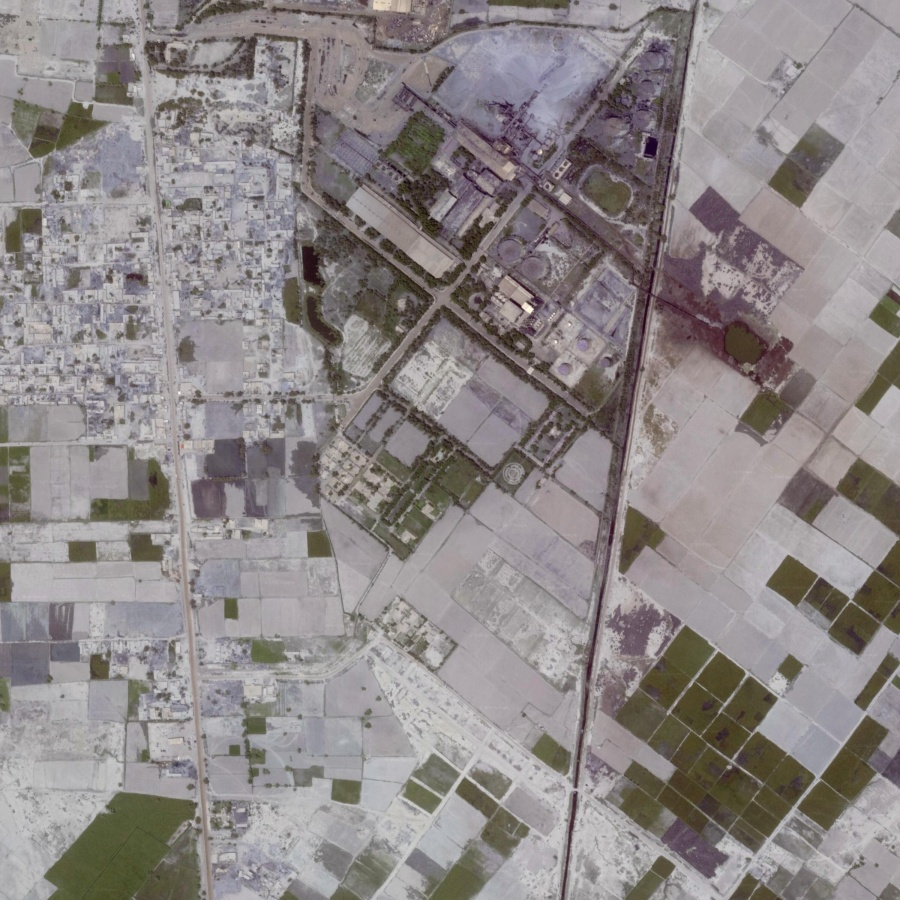PowerPlant: (444, 166, 634, 384)
